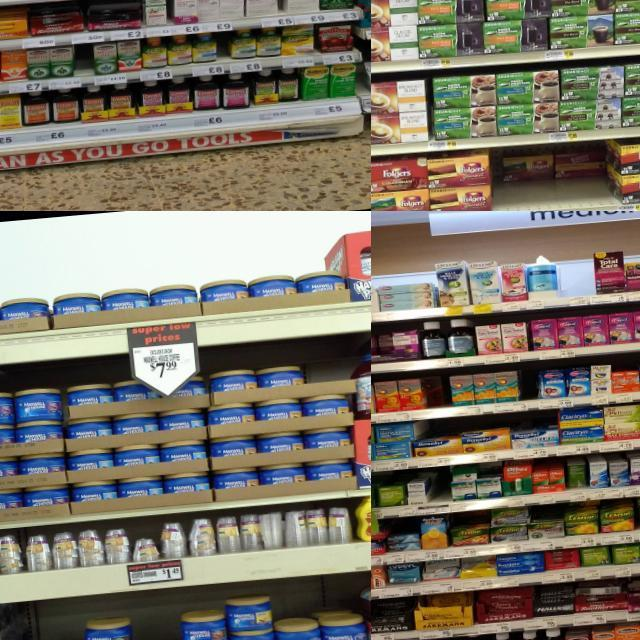Imprecise: (495, 148, 617, 208)
